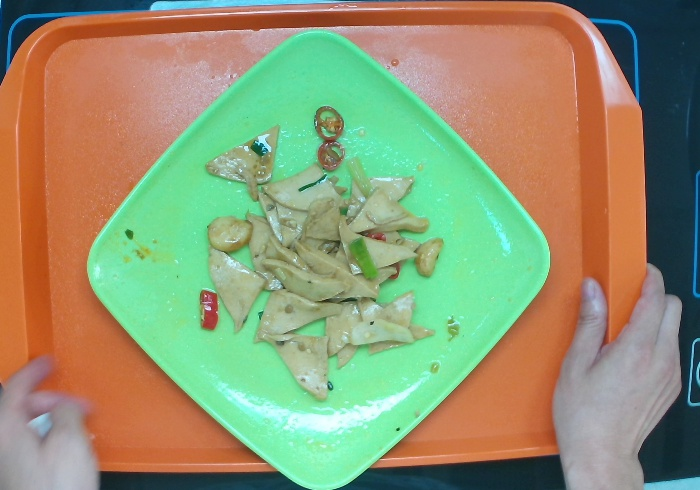ZNLD-Lv_Fang_Pan: (81, 26, 553, 490)
